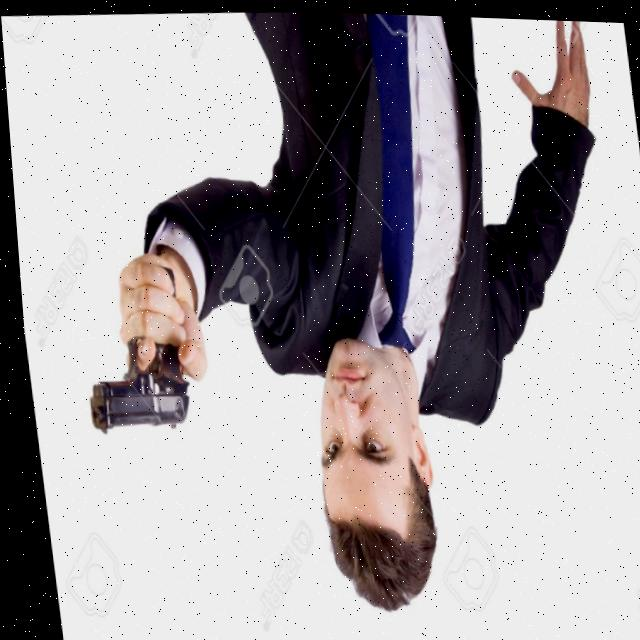pistol: (75, 329, 191, 439)
